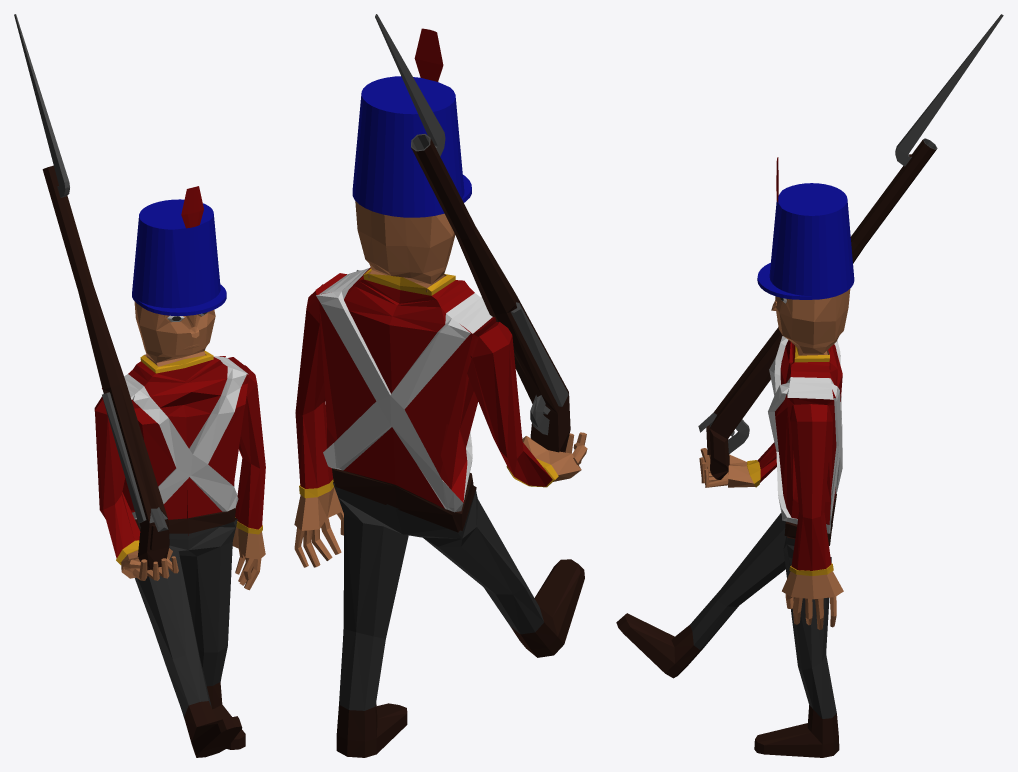
The model's file is Infantry_000001.obj.
3 renders of one model, left to right at view 1: azimuth 30°, elevation 25°; view 2: azimuth 150°, elevation 25°; view 3: azimuth 270°, elevation 25°, orthographic. The views are drawn at different scales.
Parts seen in each view (by area): view 1: {Man}_Circle, {Mesket}_Cube.001; view 2: {Man}_Circle, {Mesket}_Cube.001; view 3: {Man}_Circle, {Mesket}_Cube.001.
Part boxes in pixels (x1,y1,x2,y2): {Man}_Circle: (94,186,265,757); {Mesket}_Cube.001: (14,14,169,570); {Man}_Circle: (294,28,587,757); {Mesket}_Cube.001: (375,14,570,452); {Man}_Circle: (616,157,854,757); {Mesket}_Cube.001: (698,14,1003,479).
Bounding box in the file's own units: 5.63 × 19.65 × 10.06.
